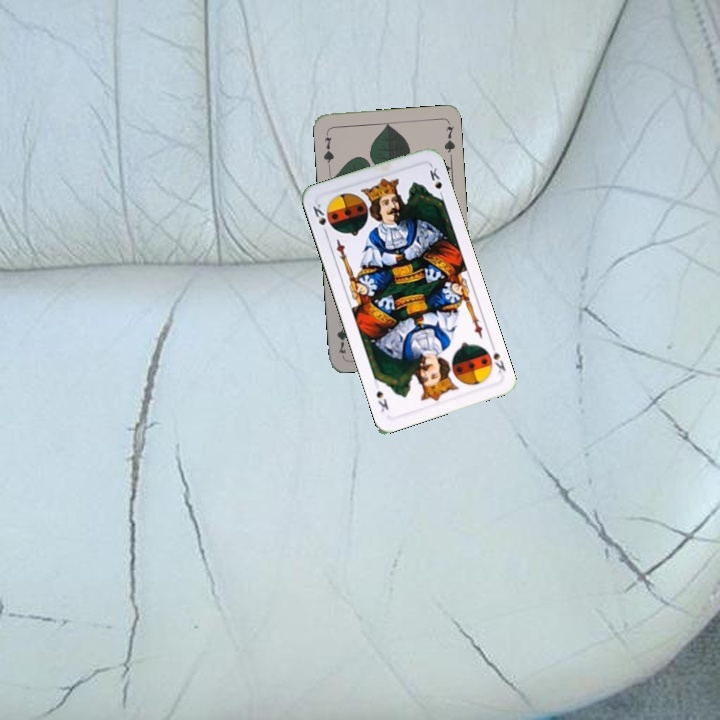G7: (319, 128, 337, 168)
SK: (486, 339, 508, 376), (309, 200, 330, 238)
